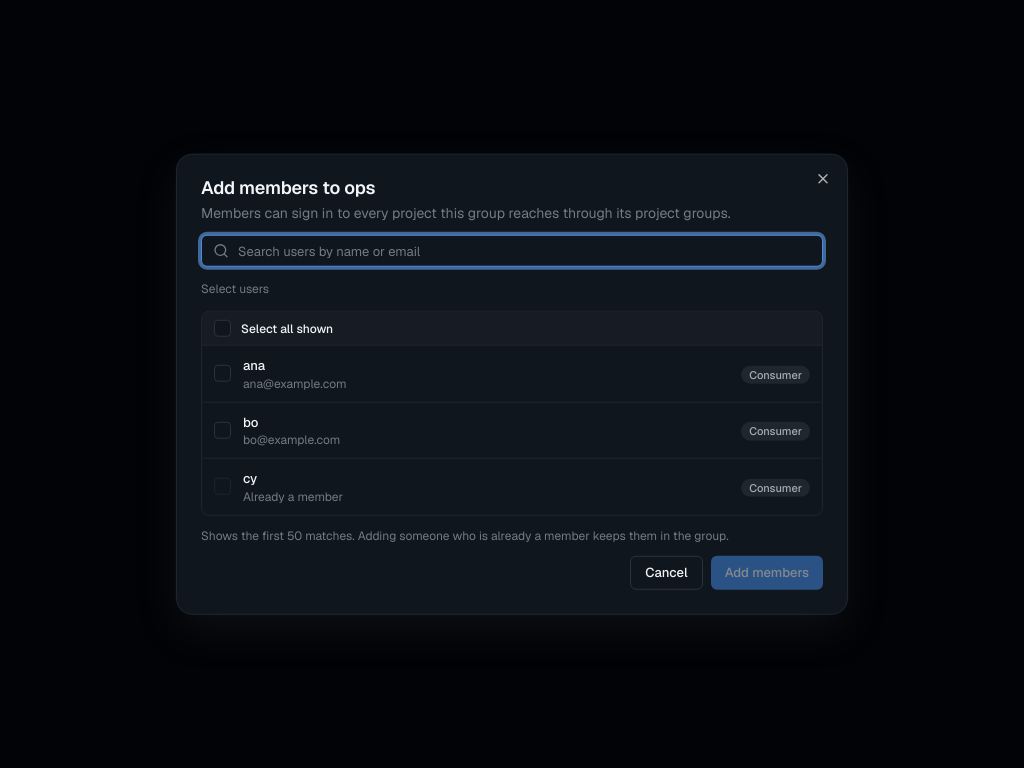
Test: AddMembersModal › keeps the dialog open when every user fails and does not report an addition
The width and height of the screenshot is (1024, 768).
Click the checkbox named "ana" at (222, 374), box [214,365,231,382]
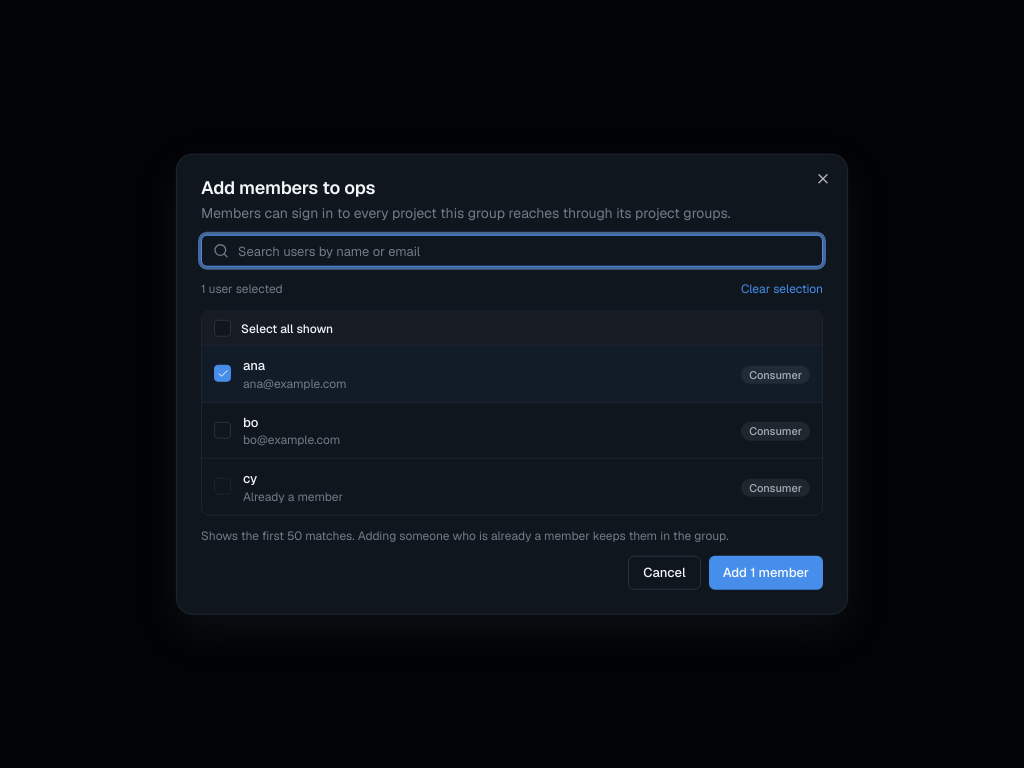
Click the button "Add 1 member" at (766, 572), box [709,555,823,589]
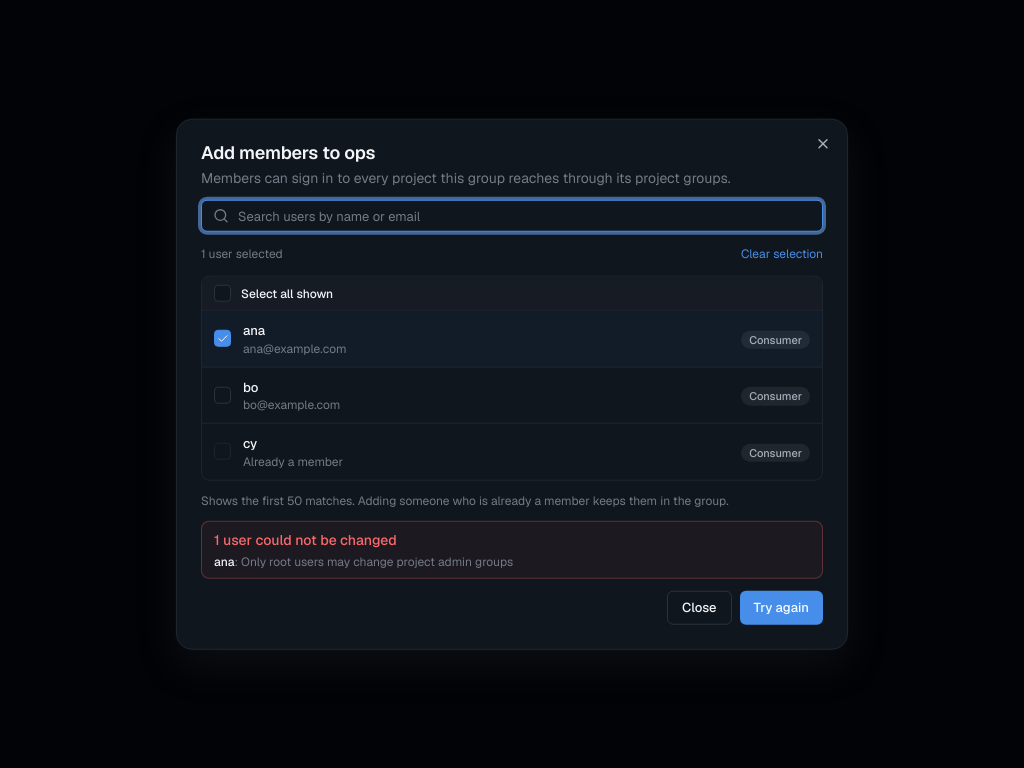
Expected: the message shows "Only root users may change project admin groups", [241,553,513,569]
